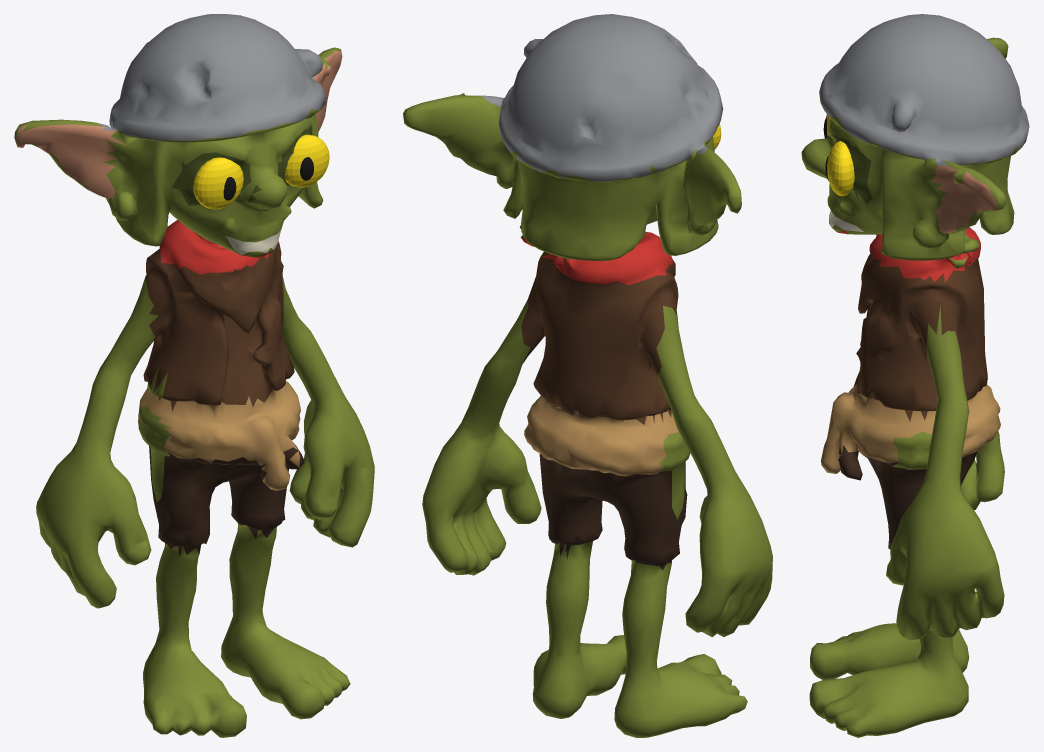
The model's file is goblin.glb.
3 renders of one model, left to right at view 1: azimuth 30°, elevation 25°; view 2: azimuth 150°, elevation 25°; view 3: azimuth 270°, elevation 25°, orthographic. The views are drawn at different scales.
Visible parts, largest first — view 1: Goblin; view 2: Goblin; view 3: Goblin.
Part boxes in pixels (x1,y1,x2,y2): Goblin: (14, 14, 374, 737); Goblin: (403, 14, 772, 737); Goblin: (801, 14, 1029, 737).
Bounding box in the file's own units: 0.6113 × 1.2 × 0.369.
